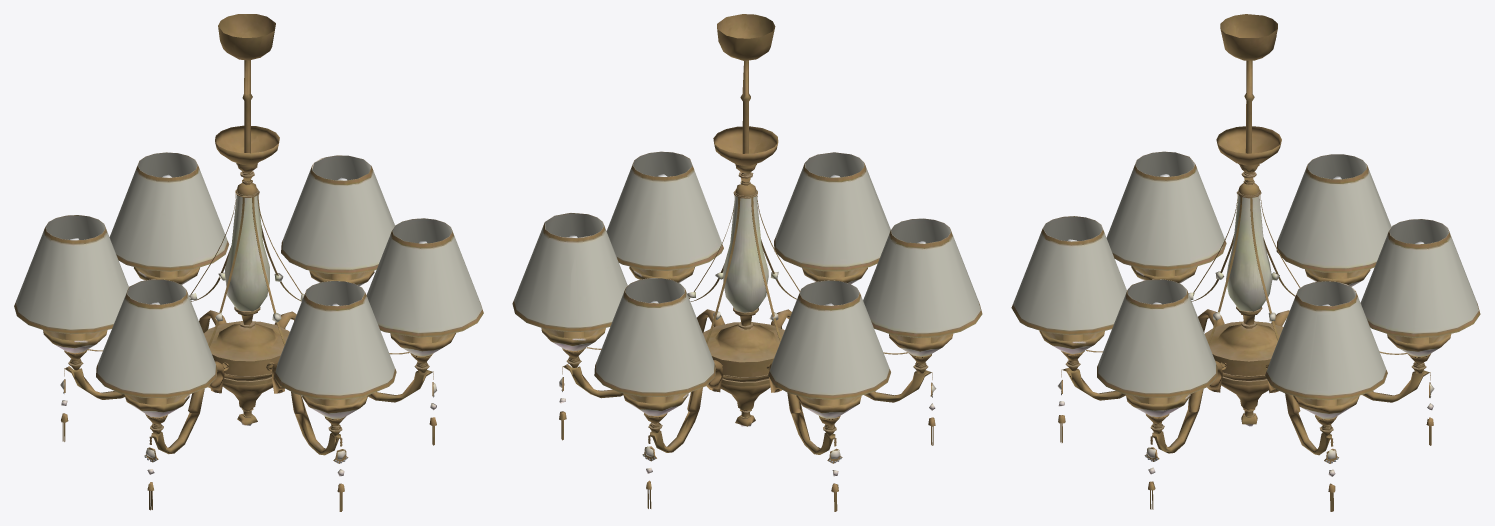
The model's file is Chandelier_01.glb.
The picture shows the model from 3 angles, left to right: view 1: azimuth 30°, elevation 25°; view 2: azimuth 150°, elevation 25°; view 3: azimuth 270°, elevation 25°; orthographic projection.
Visible parts, largest first — view 1: Chandelier_01; view 2: Chandelier_01; view 3: Chandelier_01.
Part boxes in pixels (left/top/right/bottom): Chandelier_01: left=14, top=14, right=483, bottom=511; Chandelier_01: left=512, top=14, right=982, bottom=511; Chandelier_01: left=1011, top=14, right=1480, bottom=511.
Size of the model in its own units: 0.7465 by 0.7983 by 0.8155.
2 materials, 1 textured.
